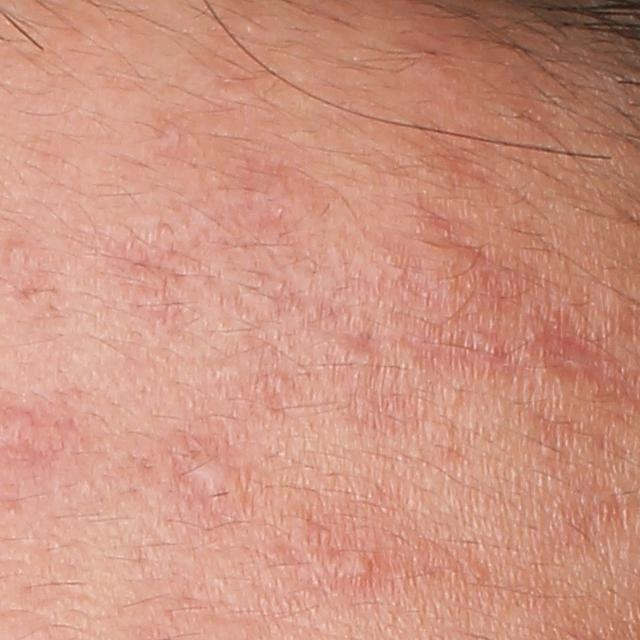atrophic_scar: (529, 316, 636, 402)
comedo: (1, 237, 23, 264)
